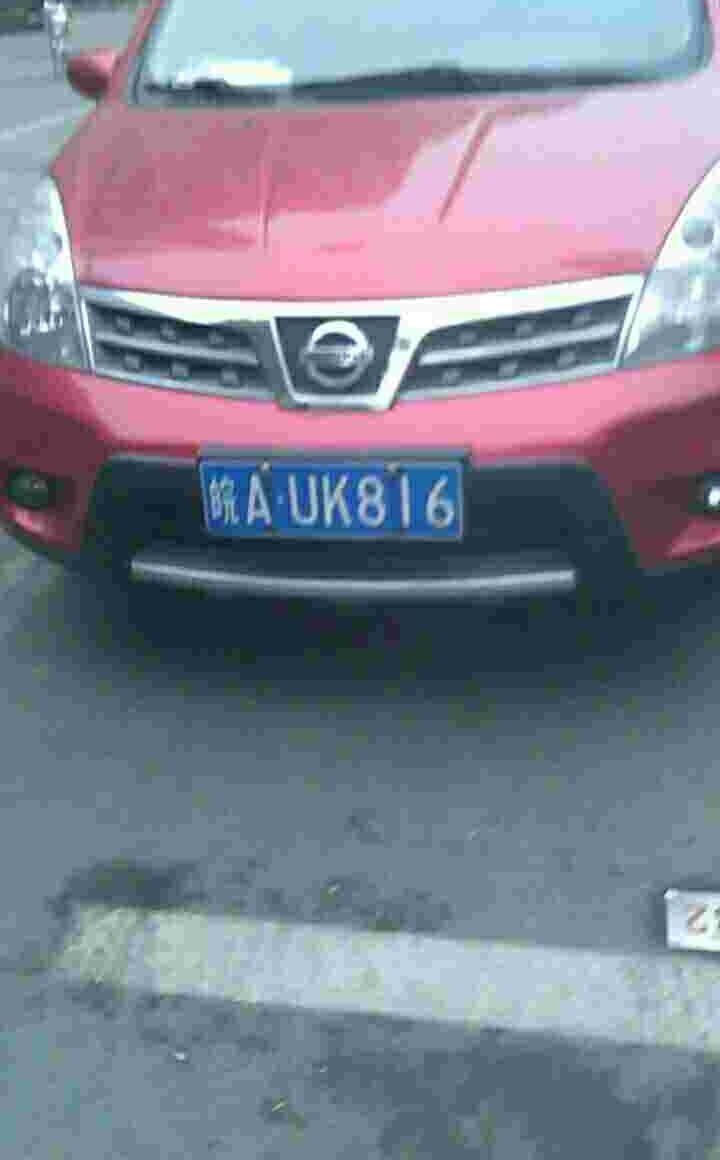license_plate: (191, 465, 464, 543)
